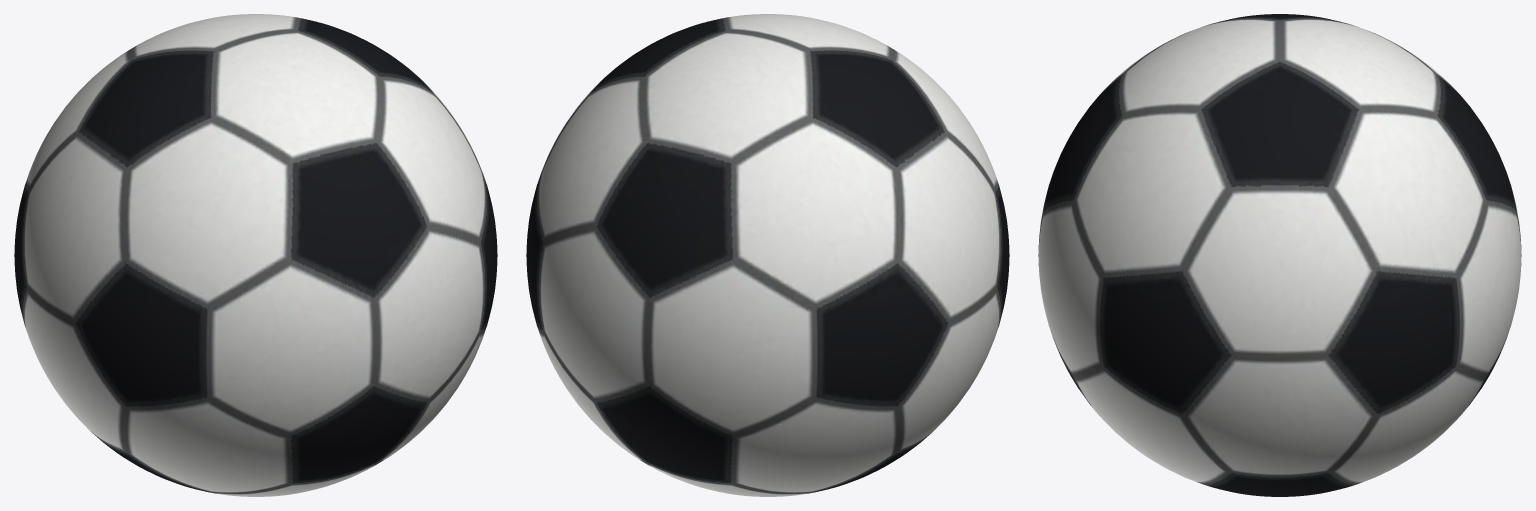
File: ball-soccer.glb
3 views of the same model, side by side, from view 1: azimuth 30°, elevation 25°; view 2: azimuth 150°, elevation 25°; view 3: azimuth 270°, elevation 25° (orthographic).
Visible parts, largest first — view 1: Ball; view 2: Ball; view 3: Ball.
Boxes of the visible parts, left/top/right/bottom form: Ball: left=14, top=14, right=497, bottom=496; Ball: left=526, top=14, right=1009, bottom=496; Ball: left=1038, top=14, right=1521, bottom=496.
Bounding box in the file's own units: 0.22 × 0.22 × 0.22.
2 materials, 2 textured.
